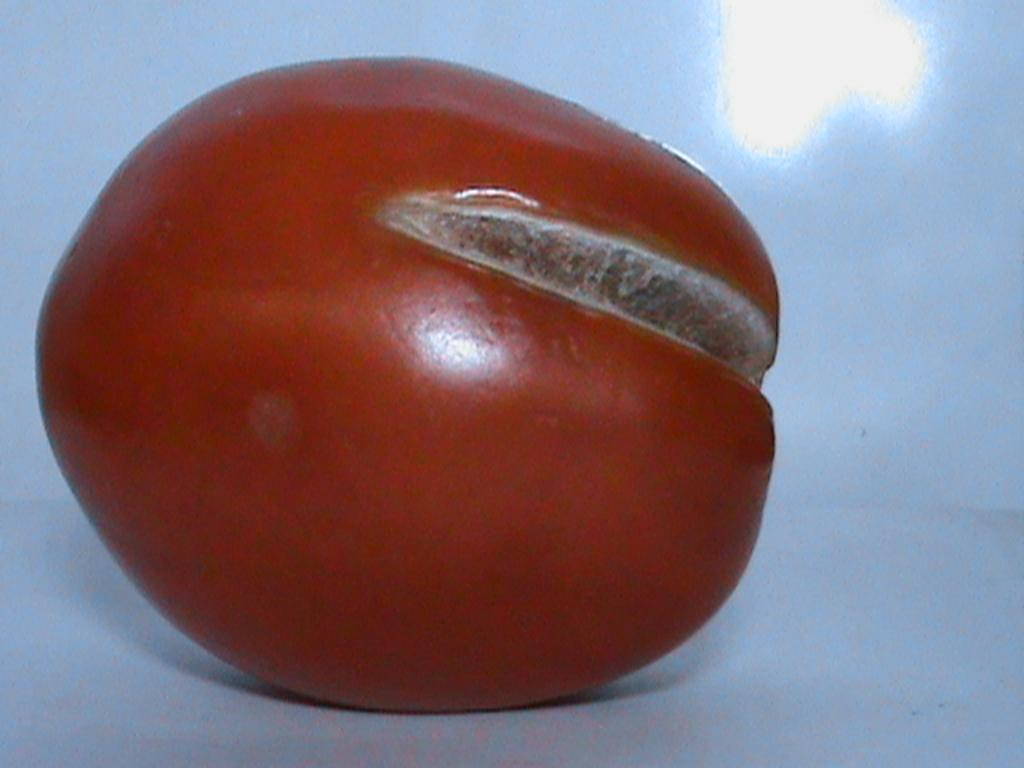surface_damage: (378, 190, 773, 382)
tomato: (38, 59, 778, 709)
